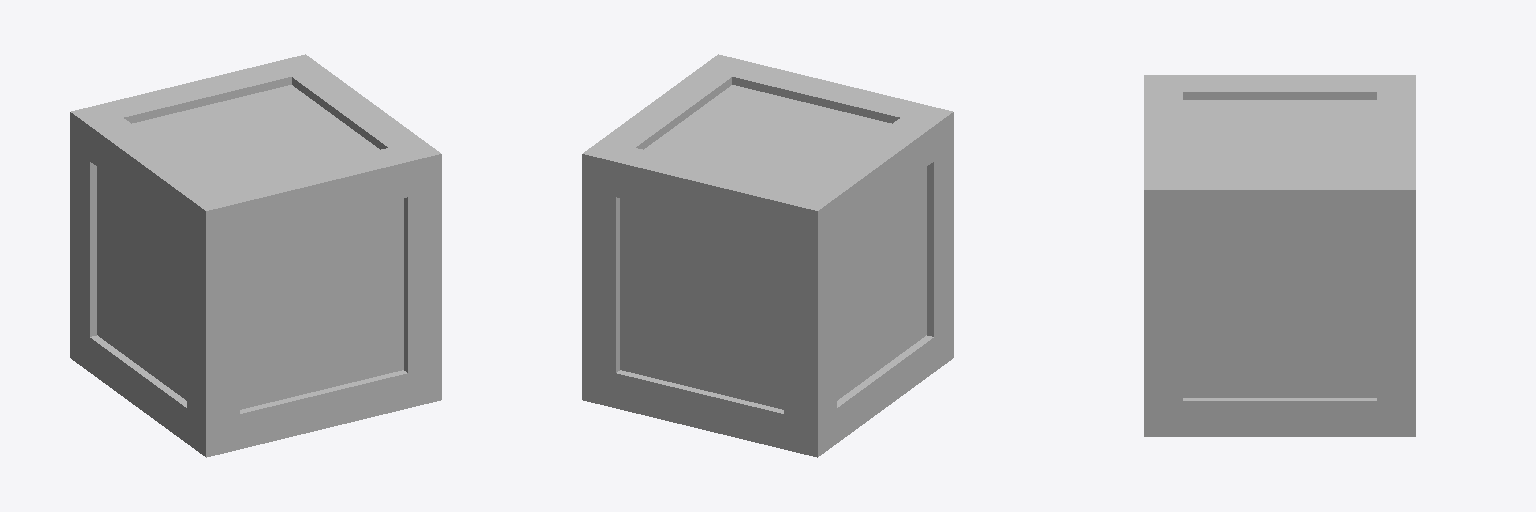
3 renders of one model, left to right at view 1: azimuth 30°, elevation 25°; view 2: azimuth 150°, elevation 25°; view 3: azimuth 270°, elevation 25°, orthographic.
Parts seen in each view (by area): view 1: box_3ds; view 2: box_3ds; view 3: box_3ds.
Boxes of the visible parts, <box> form: box_3ds: <box>70,54,441,457</box>; box_3ds: <box>582,54,953,457</box>; box_3ds: <box>1144,75,1415,436</box>.
Size of the model in its own units: 0.3 by 0.3 by 0.3.